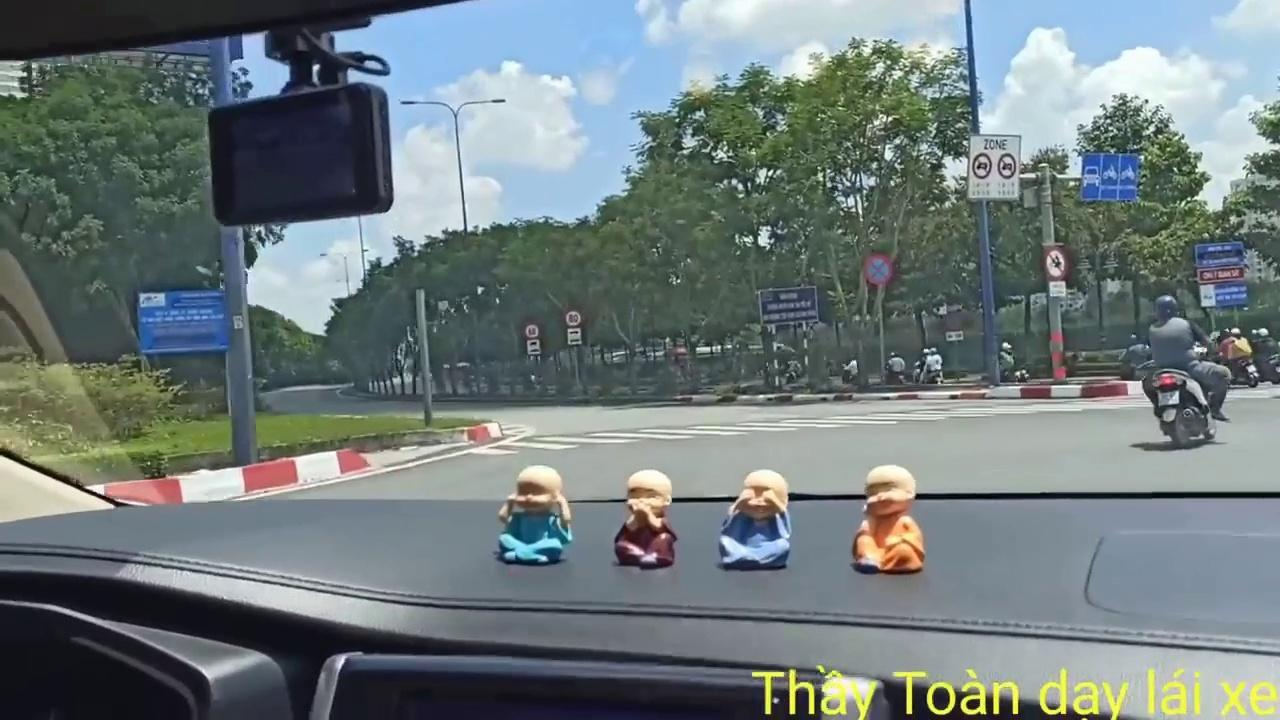Biển phụ: (567, 328, 583, 346), (526, 339, 542, 355)
Cấm cac phương tiện hoạt động trong khung giờ cố định: (964, 132, 1024, 203)
Cấm dừng - Cấm đỗ: (861, 252, 894, 287)
Cấm xe máy: (1041, 244, 1068, 281)
GIơi hạn tốc độ 60Km/h: (524, 323, 540, 339)
Giới hạn tốc độ 80Km/h: (565, 310, 582, 327)
Khác: (135, 287, 233, 356), (1192, 238, 1252, 310)
Làn đường cho từng xe: (1079, 150, 1141, 203)
